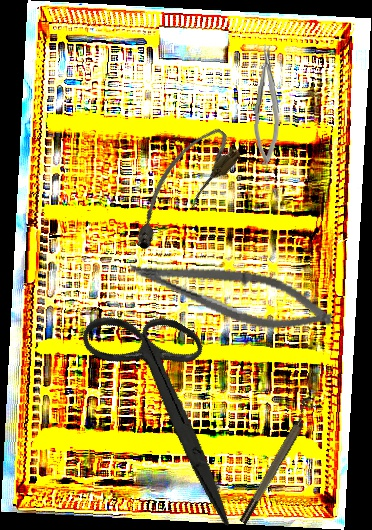Cannula: (115, 119, 246, 258)
Fixation Ring: (232, 395, 321, 526)
Iris Scissors: (35, 282, 305, 527)
Micro Scissor: (122, 249, 339, 342)
Needle Holder: (251, 43, 284, 167)
